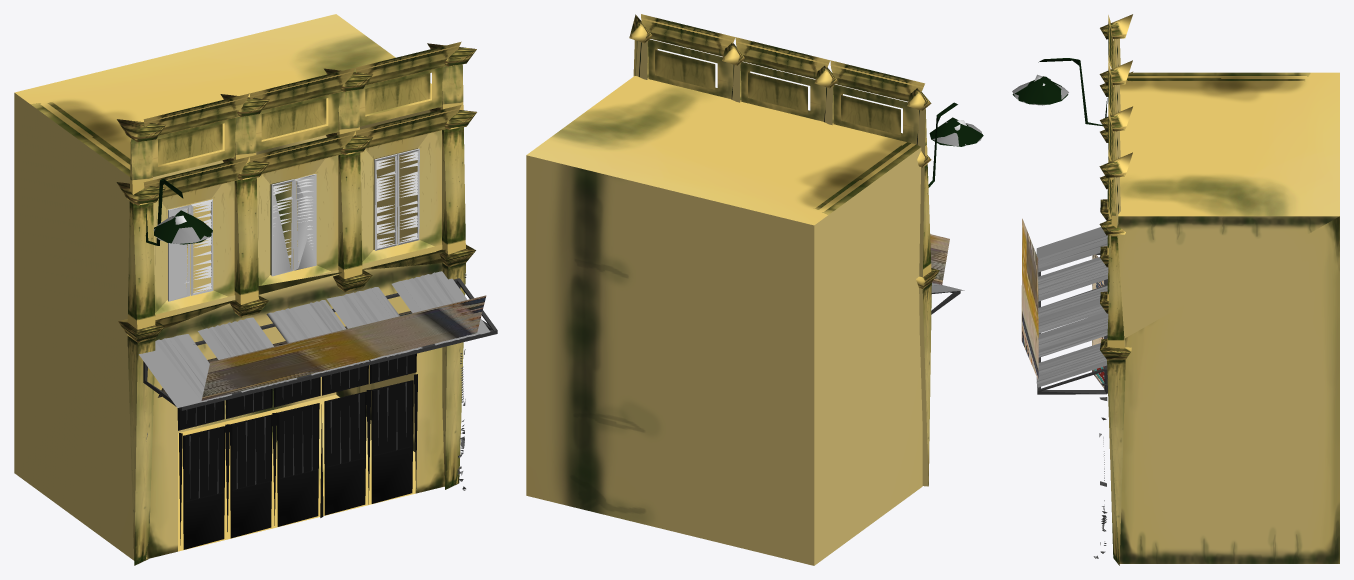
Rendered from NhaHaNoi3.fbx.
3 renders of one model, left to right at view 1: azimuth 30°, elevation 25°; view 2: azimuth 150°, elevation 25°; view 3: azimuth 270°, elevation 25°, orthographic. The views are drawn at different scales.
Parts seen in each view (by area): view 1: Cube.006; view 2: Cube.006; view 3: Cube.006.
Boxes of the visible parts, bbox=[...] form: Cube.006: bbox=[14, 14, 497, 565]; Cube.006: bbox=[526, 14, 983, 565]; Cube.006: bbox=[1012, 14, 1339, 565].
Bounding box in the file's own units: 2091 × 2536 × 1845.
11 materials, 2 textured.
